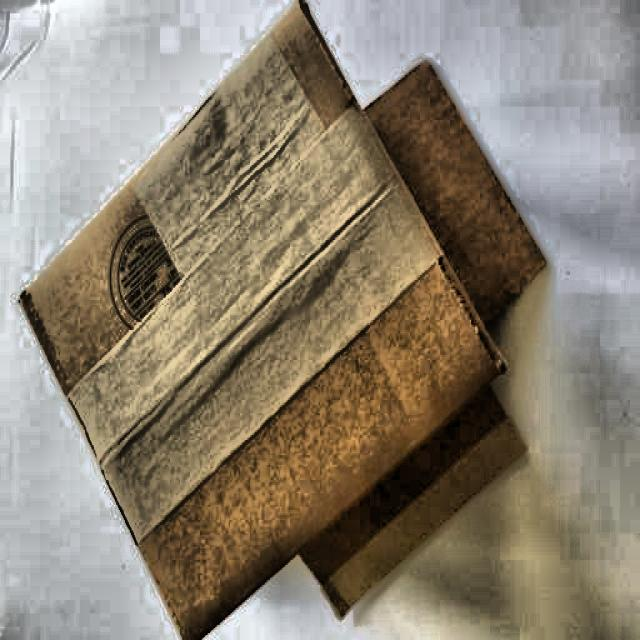cardboard: (18, 3, 523, 625)
